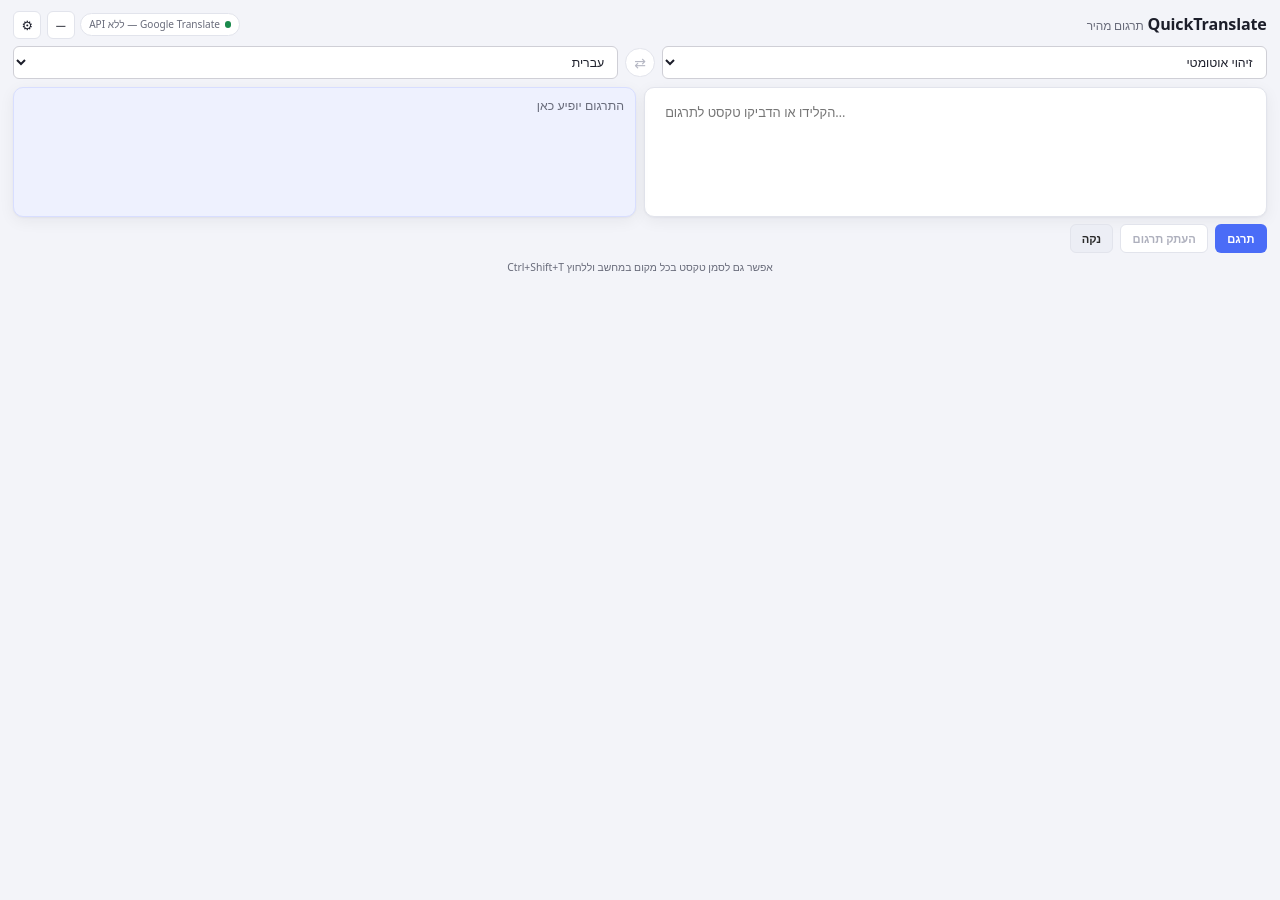
a failed shortcut change keeps the saved shortcut
Step 1. Click the button titled "הגדרות" → (27, 24), box 13,10 -> 41,38
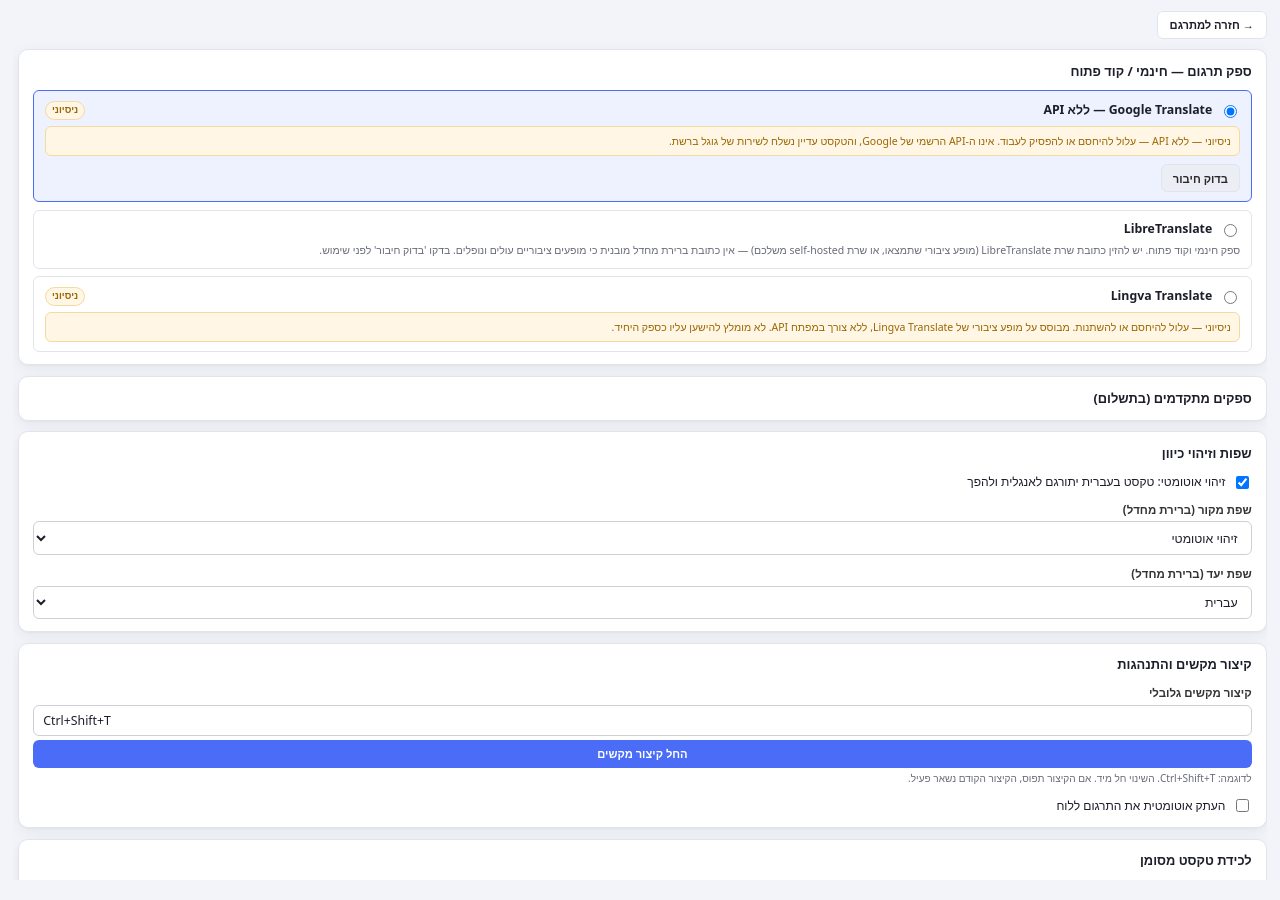
Step 2. Replace the text in the field labelled "קיצור מקשים גלובלי" with "Ctrl+Q" → (642, 720), box 33,704 -> 1252,736
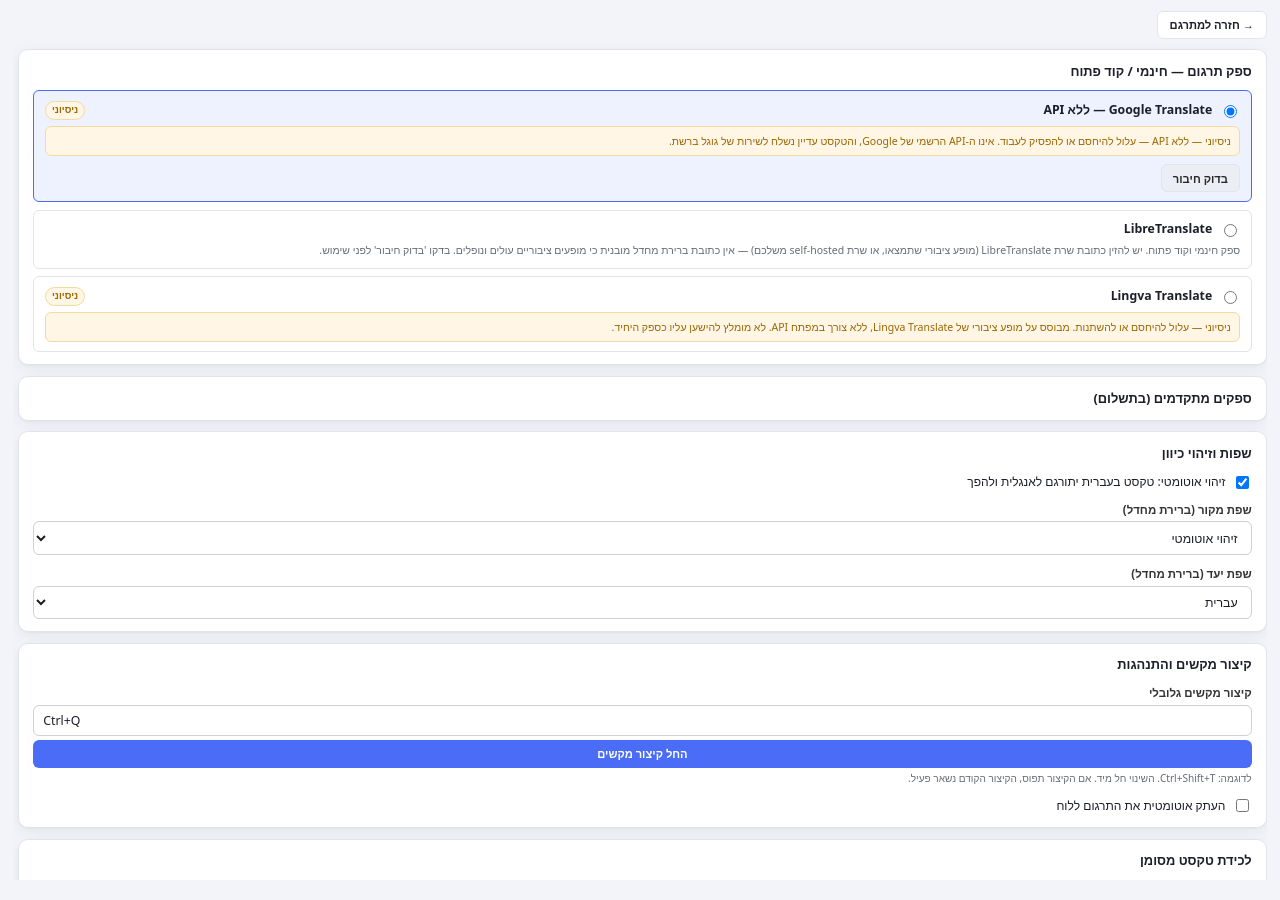
Step 3. Click the button "החל קיצור מקשים" → (642, 754), box 33,740 -> 1252,768
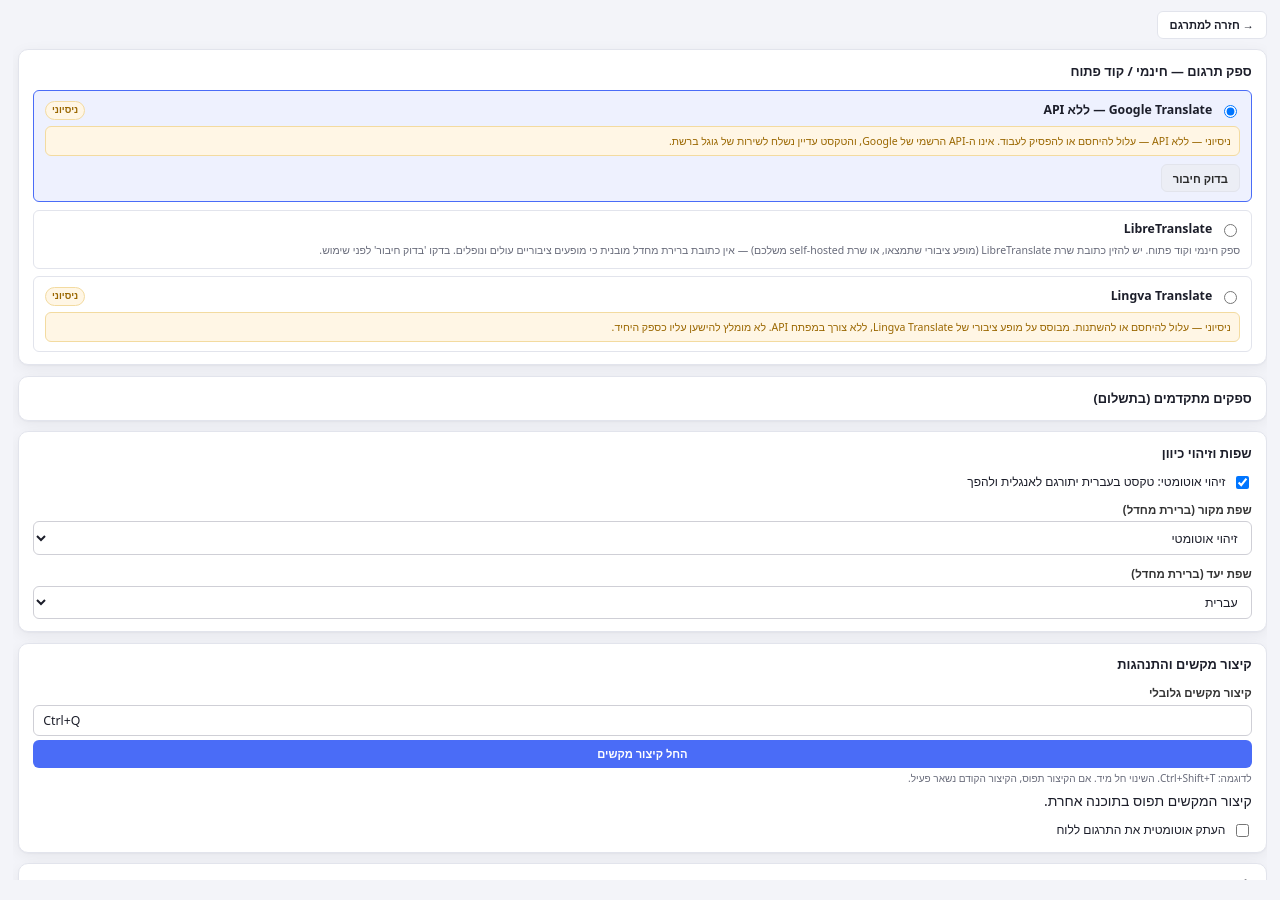
Check: the text "קיצור המקשים תפוס בתוכנה אחרת." is shown, box 1044,791 -> 1252,810
Step 4. Click the button "→ חזרה למתרגם" → (1212, 25), box 1157,10 -> 1267,39
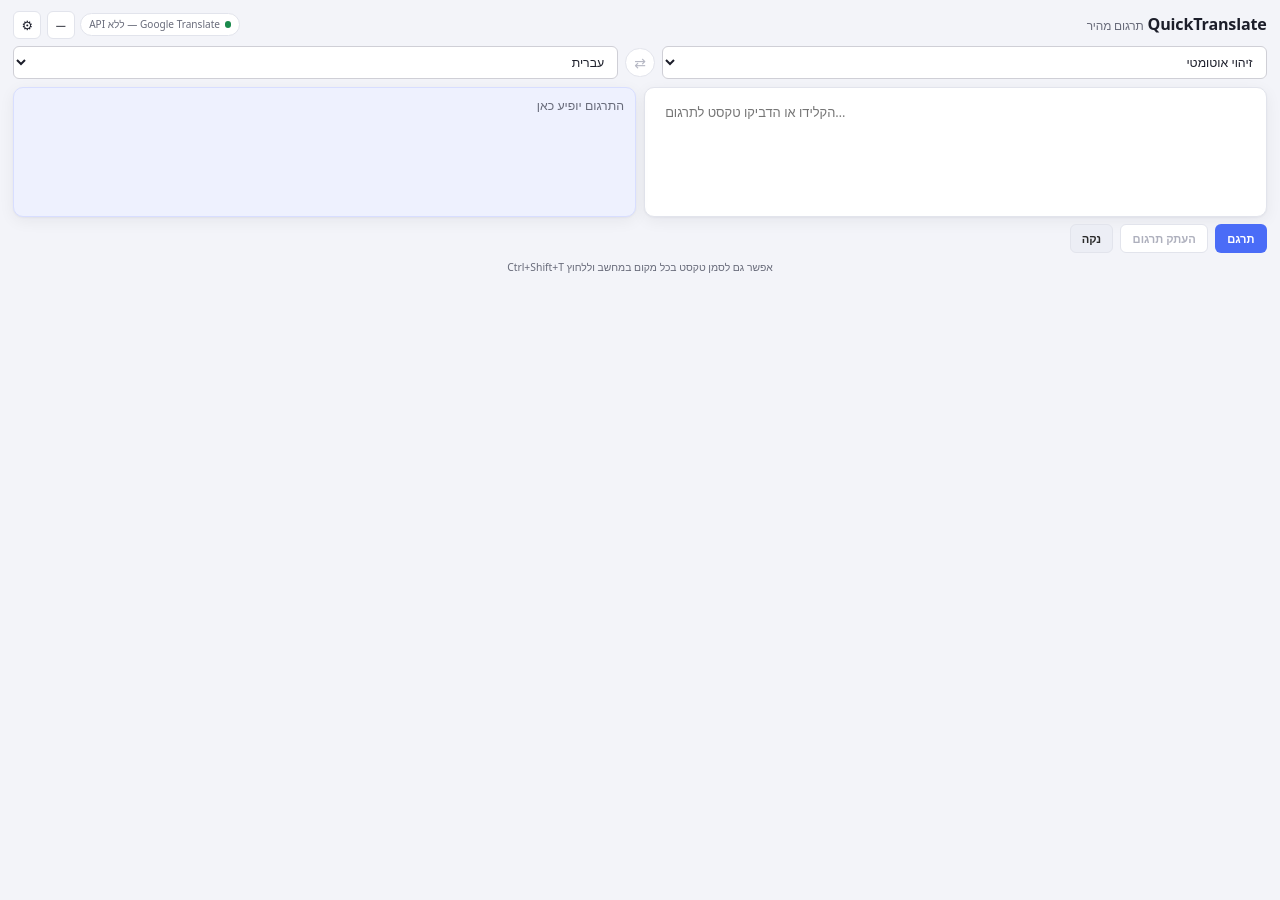
Check: the text "אפשר גם לסמן טקסט בכל מקום במחשב וללחוץ Ctrl+Shift+T" is shown, box 507,260 -> 773,274
